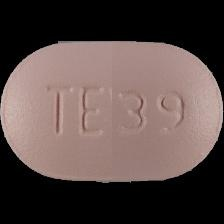42291-343: (0, 0, 224, 224)
